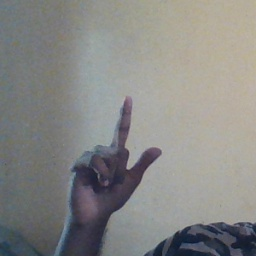L: (66, 94, 168, 218)
